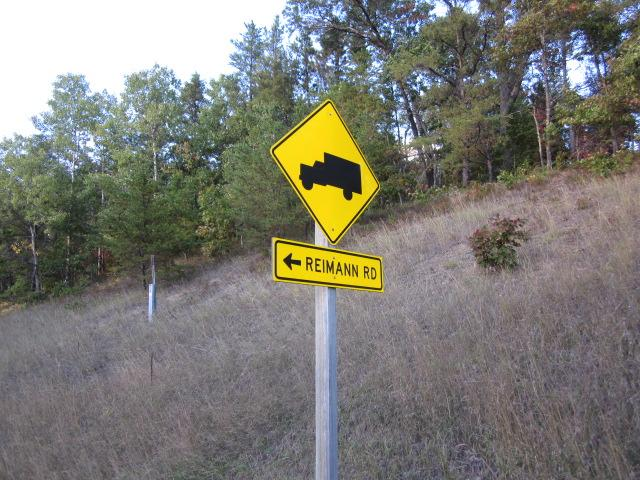warning: (263, 96, 389, 247)
